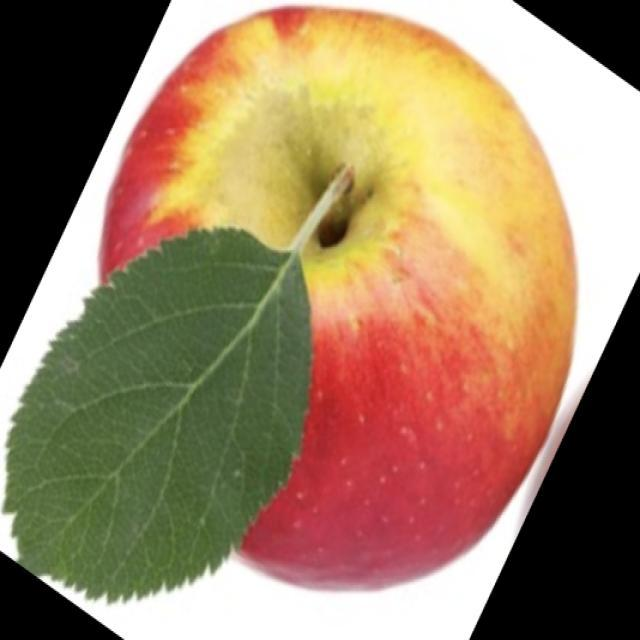Apple: (97, 4, 579, 592)
